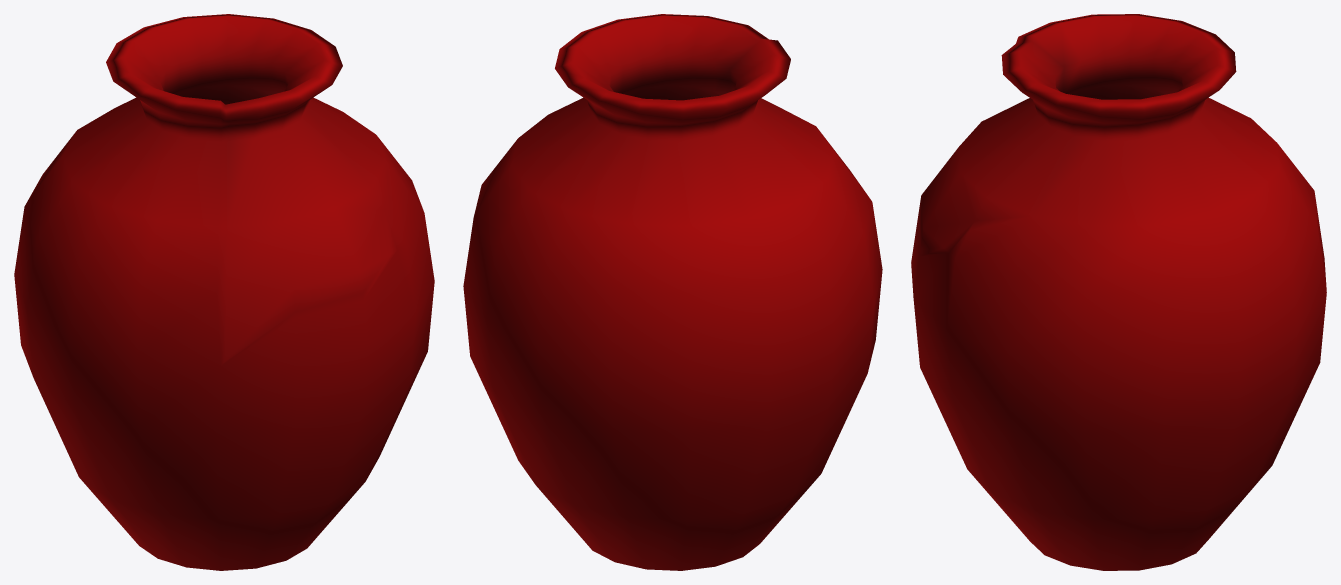
File: CeramicPot003.glb
The picture shows the model from 3 angles, left to right: view 1: azimuth 30°, elevation 25°; view 2: azimuth 150°, elevation 25°; view 3: azimuth 270°, elevation 25°; orthographic projection.
Parts seen in each view (by area): view 1: CeramicPot003; view 2: CeramicPot003; view 3: CeramicPot003.
Boxes of the visible parts, x1,y1,x2,y2 form: CeramicPot003: [14, 14, 434, 570]; CeramicPot003: [463, 14, 882, 570]; CeramicPot003: [911, 14, 1326, 570].
Bounding box in the file's own units: 4.12 × 5.19 × 4.12.
